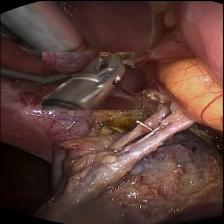Clipper: (42, 50, 135, 108)
Grasper: (0, 66, 76, 96)
